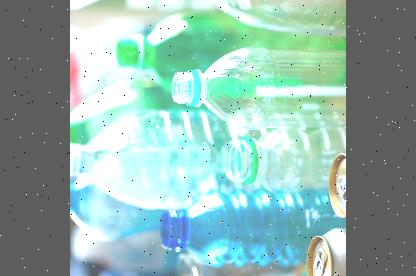Can: (174, 0, 346, 34), (307, 226, 346, 276), (329, 153, 346, 218)
Plastic Bottle: (142, 184, 346, 274), (169, 44, 345, 130), (221, 127, 346, 194)
